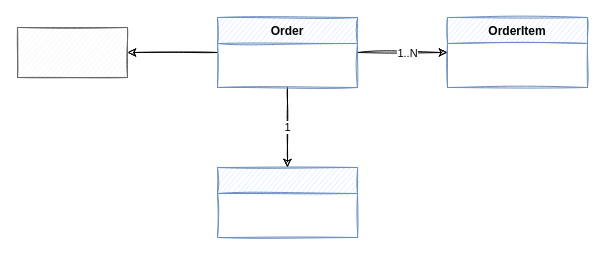
Some shapes in this 605 by 255 pixel diagram are drawn without their labels. The shapes that lost their labels are listed below. From the top down, each one's box as (x1, y1, x2, y2) in pixels, then its label:
(16, 26, 128, 78): «enum» OrderStatus
(216, 166, 358, 238): Customer
